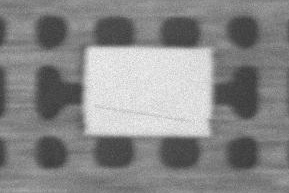DIE_CRACK: (141, 71, 285, 81)
